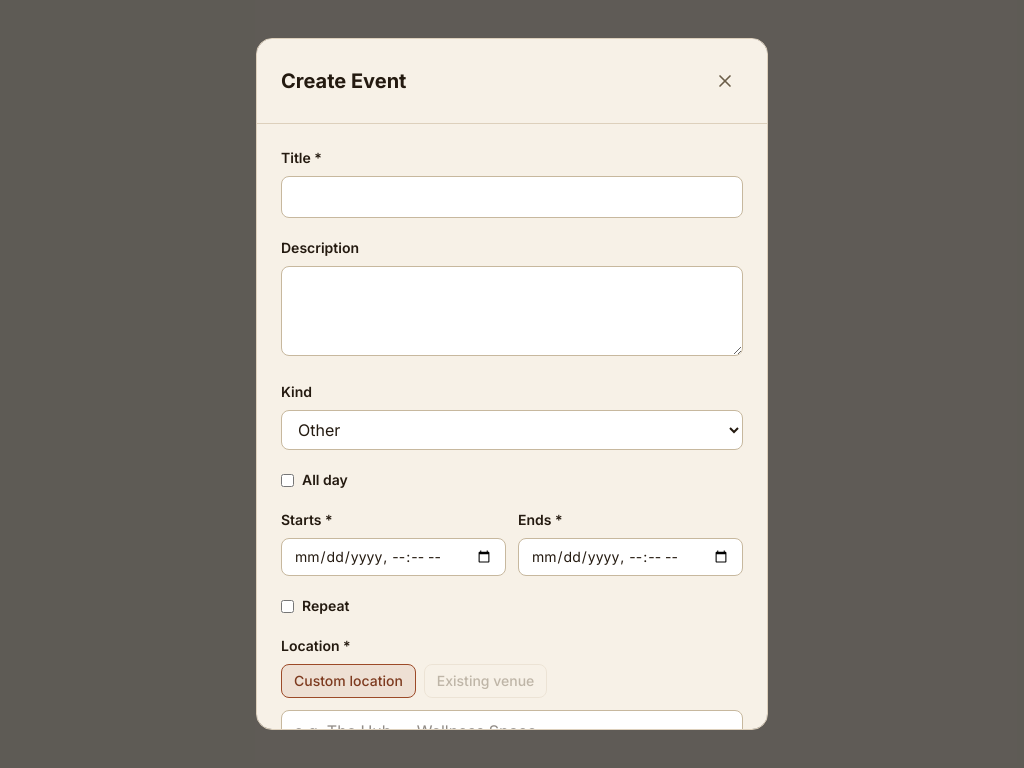
Test case: CreateEventModal › Approach B › toggling All day swaps the datetime-local inputs for date inputs
Check: the field labelled "Starts *" is shown, box [281, 538, 506, 576]
What coordinates should you click on to do the following:
click the checkbox labelled "All day"
I would click on:
 (288, 480)
Its box is [281, 474, 294, 487].
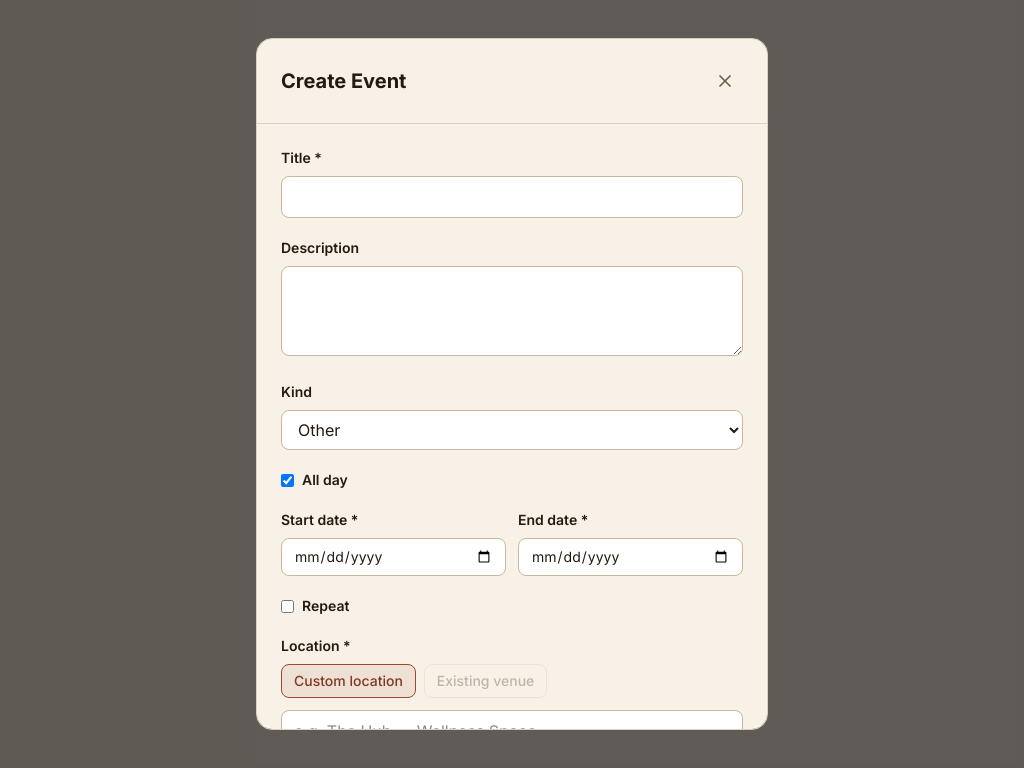
Check: the date field labelled "Start date *" is shown, box [281, 538, 506, 576]
Check: the label labelled "Starts *" is gone
